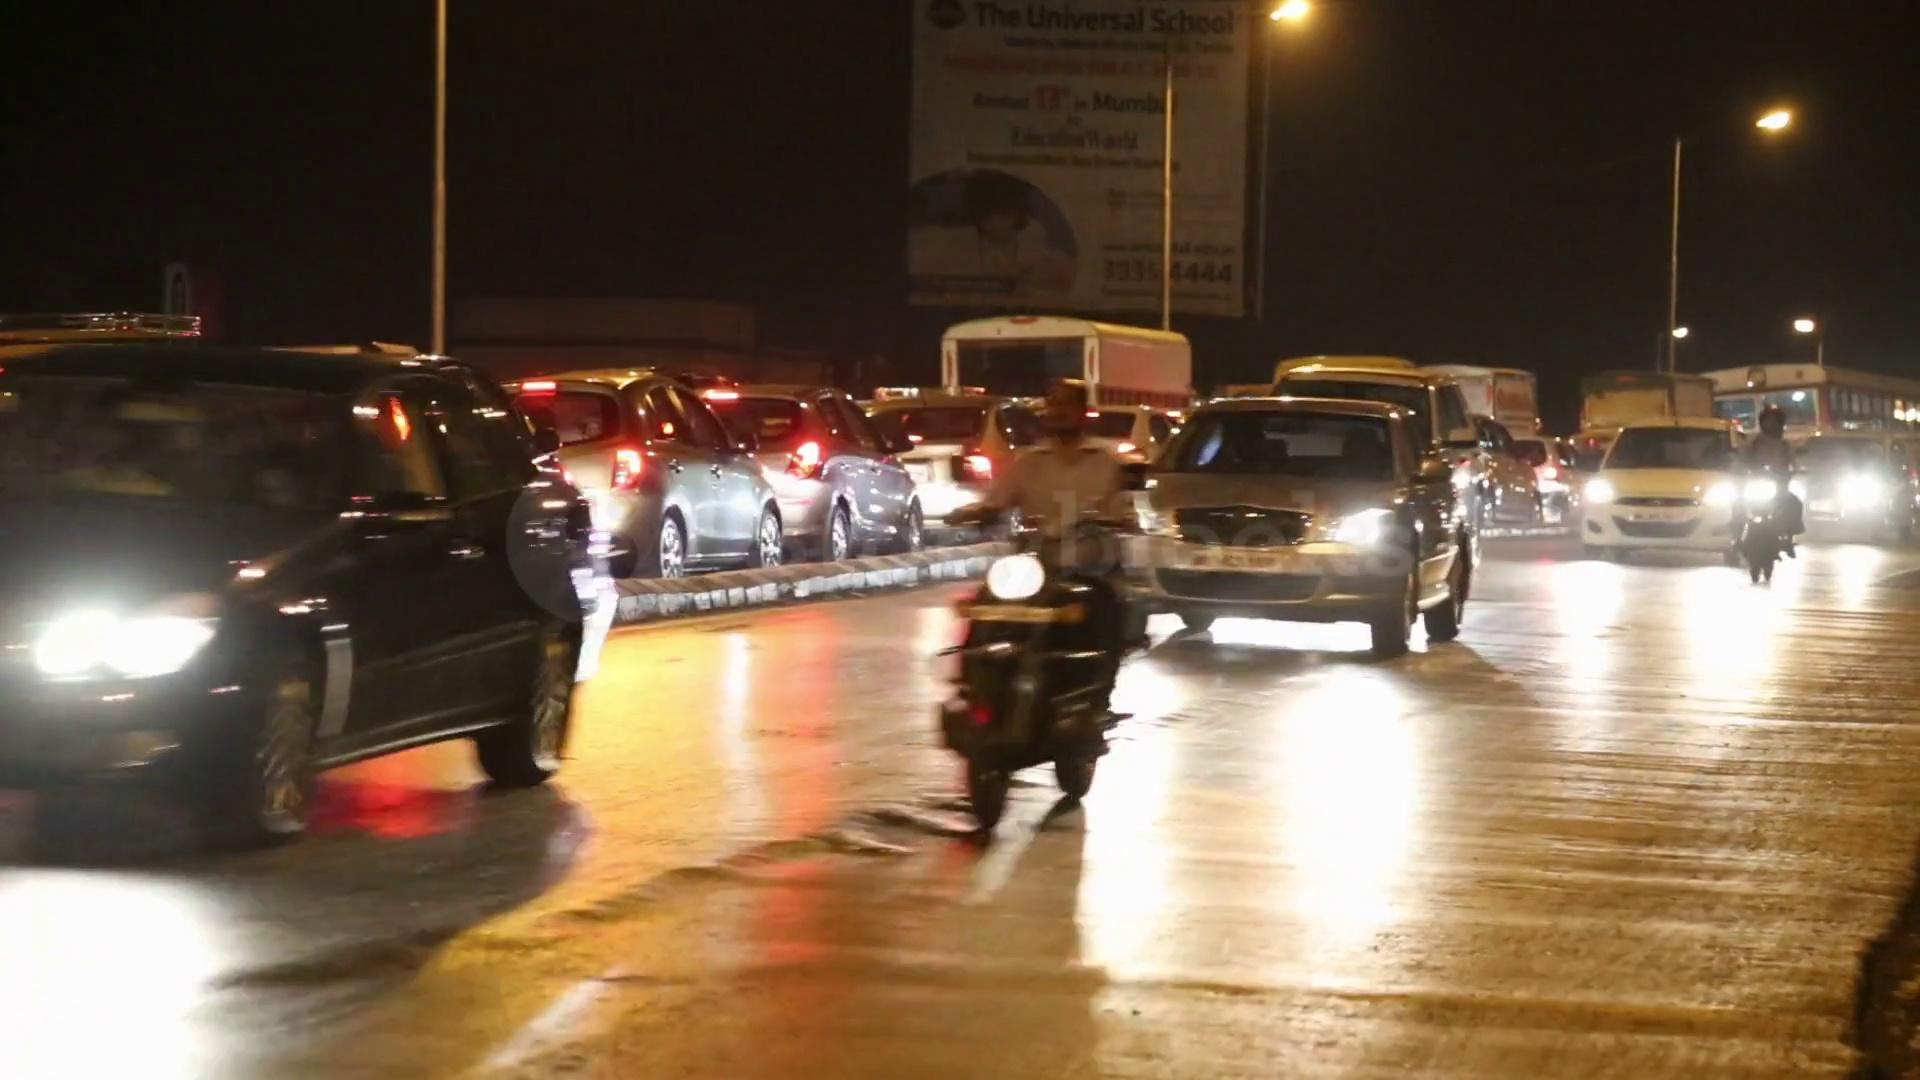rider: (940, 375, 1144, 796), (1728, 406, 1799, 580)
without_helmate: (1040, 371, 1091, 441)
